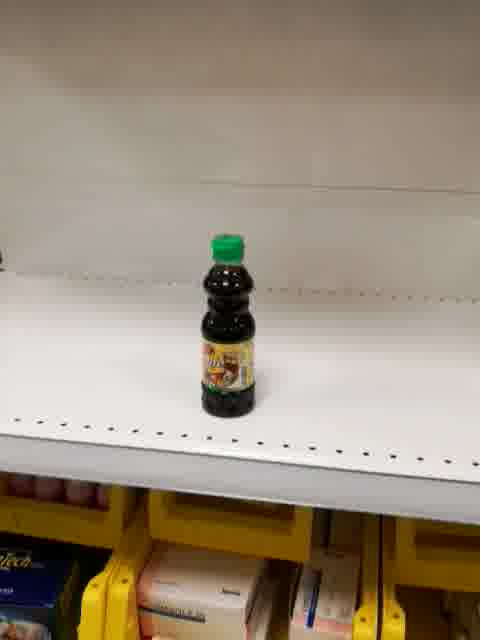cookingoil: (199, 231, 259, 420)
